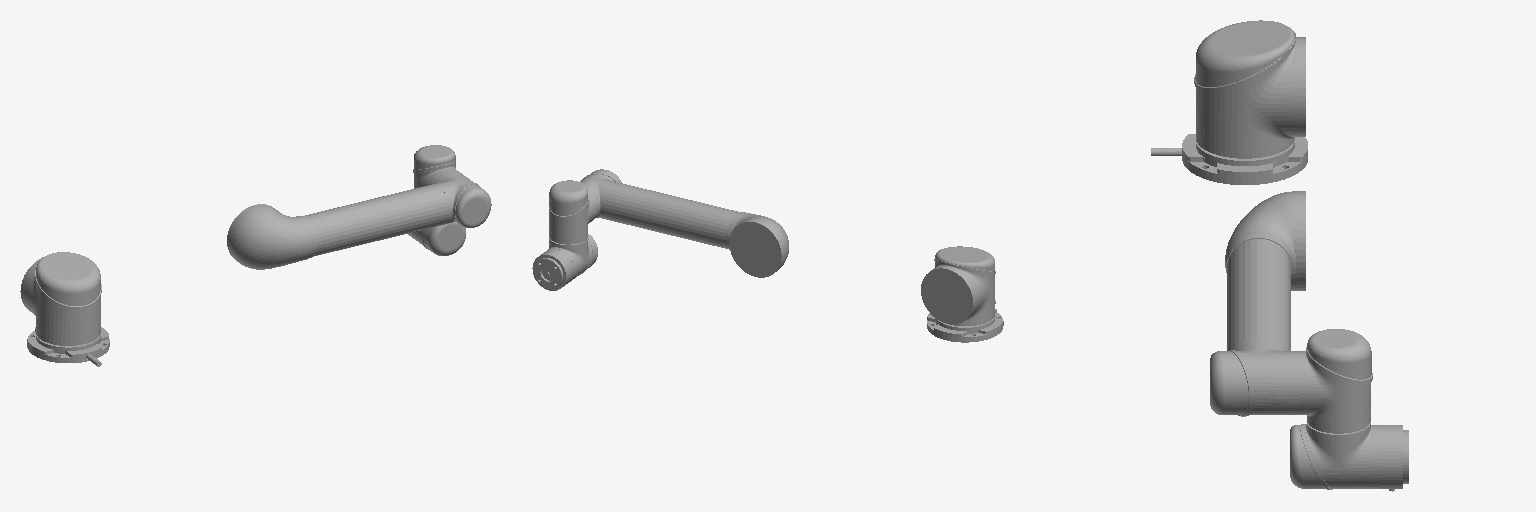
robot.urdf — ur5:
<?xml version="1.0" encoding="utf-8"?>
<!-- =================================================================================== -->
<!-- |    This document was autogenerated by xacro from ur5_joint_limited_robot.urdf.xacro | -->
<!-- |    EDITING THIS FILE BY HAND IS NOT RECOMMENDED                                 | -->
<!-- =================================================================================== -->
<robot name="ur5" xmlns:xacro="http://wiki.ros.org/xacro">
  <gazebo>
    <plugin filename="libgazebo_ros_control.so" name="ros_control">
      <!--robotNamespace>/</robotNamespace-->
      <!--robotSimType>gazebo_ros_control/DefaultRobotHWSim</robotSimType-->
    </plugin>
    <!--
    <plugin name="gazebo_ros_power_monitor_controller" filename="libgazebo_ros_power_monitor.so">
      <alwaysOn>true</alwaysOn>
      <updateRate>1.0</updateRate>
      <timeout>5</timeout>
      <powerStateTopic>power_state</powerStateTopic>
      <powerStateRate>10.0</powerStateRate>
      <fullChargeCapacity>87.78</fullChargeCapacity>
      <dischargeRate>-474</dischargeRate>
      <chargeRate>525</chargeRate>
      <dischargeVoltage>15.52</dischargeVoltage>
      <chargeVoltage>16.41</chargeVoltage>
    </plugin>
-->
  </gazebo>
  <!-- measured from model -->
  <!--property name="shoulder_height" value="0.089159" /-->
  <!--property name="shoulder_offset" value="0.13585" /-->
  <!-- shoulder_offset - elbow_offset + wrist_1_length = 0.10915 -->
  <!--property name="upper_arm_length" value="0.42500" /-->
  <!--property name="elbow_offset" value="0.1197" /-->
  <!-- CAD measured -->
  <!--property name="forearm_length" value="0.39225" /-->
  <!--property name="wrist_1_length" value="0.093" /-->
  <!-- CAD measured -->
  <!--property name="wrist_2_length" value="0.09465" /-->
  <!-- In CAD this distance is 0.930, but in the spec it is 0.09465 -->
  <!--property name="wrist_3_length" value="0.0823" /-->
  <!-- manually measured -->
  <link name="base_link">
    <visual>
      <geometry>
        <mesh filename="package://ur_description/meshes/ur5/visual/base.dae"/>
      </geometry>
      <material name="LightGrey">
        <color rgba="0.7 0.7 0.7 1.0"/>
      </material>
    </visual>
    <collision>
      <geometry>
        <mesh filename="package://ur_description/meshes/ur5/collision/base.stl"/>
      </geometry>
    </collision>
    <inertial>
      <mass value="4.0"/>
      <origin rpy="0 0 0" xyz="0.0 0.0 0.0"/>
      <inertia ixx="0.00443333156" ixy="0.0" ixz="0.0" iyy="0.00443333156" iyz="0.0" izz="0.0072"/>
    </inertial>
  </link>
  <joint name="shoulder_pan_joint" type="revolute">
    <parent link="base_link"/>
    <child link="shoulder_link"/>
    <origin rpy="0.0 0.0 0.0" xyz="0.0 0.0 0.089159"/>
    <axis xyz="0 0 1"/>
    <limit effort="150.0" lower="-3.14159265359" upper="3.14159265359" velocity="3.15"/>
    <dynamics damping="0.0" friction="0.0"/>
  </joint>
  <link name="shoulder_link">
    <visual>
      <geometry>
        <mesh filename="package://ur_description/meshes/ur5/visual/shoulder.dae"/>
      </geometry>
      <material name="LightGrey">
        <color rgba="0.7 0.7 0.7 1.0"/>
      </material>
    </visual>
    <collision>
      <geometry>
        <mesh filename="package://ur_description/meshes/ur5/collision/shoulder.stl"/>
      </geometry>
    </collision>
    <inertial>
      <mass value="3.7"/>
      <origin rpy="0 0 0" xyz="0.0 0.0 0.0"/>
      <inertia ixx="0.010267495893" ixy="0.0" ixz="0.0" iyy="0.010267495893" iyz="0.0" izz="0.00666"/>
    </inertial>
  </link>
  <joint name="shoulder_lift_joint" type="revolute">
    <parent link="shoulder_link"/>
    <child link="upper_arm_link"/>
    <origin rpy="0.0 1.57079632679 0.0" xyz="0.0 0.13585 0.0"/>
    <axis xyz="0 1 0"/>
    <limit effort="150.0" lower="-1.5707" upper="1.5707" velocity="3.15"/>
    <dynamics damping="0.0" friction="0.0"/>
  </joint>
  <link name="upper_arm_link">
    <visual>
      <geometry>
        <mesh filename="package://ur_description/meshes/ur5/visual/upperarm.dae"/>
      </geometry>
      <material name="LightGrey">
        <color rgba="0.7 0.7 0.7 1.0"/>
      </material>
    </visual>
    <collision>
      <geometry>
        <mesh filename="package://ur_description/meshes/ur5/collision/upperarm.stl"/>
      </geometry>
    </collision>
    <inertial>
      <mass value="8.393"/>
      <origin rpy="0 0 0" xyz="0.0 0.0 0.28"/>
      <inertia ixx="0.22689067591" ixy="0.0" ixz="0.0" iyy="0.22689067591" iyz="0.0" izz="0.0151074"/>
    </inertial>
  </link>
  <joint name="elbow_joint" type="revolute">
    <parent link="upper_arm_link"/>
    <child link="forearm_link"/>
    <origin rpy="0.0 0.0 0.0" xyz="0.0 -0.1197 0.425"/>
    <axis xyz="0 1 0"/>
    <limit effort="150.0" lower="-1.5707" upper="1.5707" velocity="3.15"/>
    <dynamics damping="0.0" friction="0.0"/>
  </joint>
  <link name="forearm_link">
    <visual>
      <geometry>
        <mesh filename="package://ur_description/meshes/ur5/visual/forearm.dae"/>
      </geometry>
      <material name="LightGrey">
        <color rgba="0.7 0.7 0.7 1.0"/>
      </material>
    </visual>
    <collision>
      <geometry>
        <mesh filename="package://ur_description/meshes/ur5/collision/forearm.stl"/>
      </geometry>
    </collision>
    <inertial>
      <mass value="2.275"/>
      <origin rpy="0 0 0" xyz="0.0 0.0 0.25"/>
      <inertia ixx="0.049443313556" ixy="0.0" ixz="0.0" iyy="0.049443313556" iyz="0.0" izz="0.004095"/>
    </inertial>
  </link>
  <joint name="wrist_1_joint" type="revolute">
    <parent link="forearm_link"/>
    <child link="wrist_1_link"/>
    <origin rpy="0.0 1.57079632679 0.0" xyz="0.0 0.0 0.39225"/>
    <axis xyz="0 1 0"/>
    <limit effort="28.0" lower="-1.5707" upper="1.5707" velocity="3.2"/>
    <dynamics damping="0.0" friction="0.0"/>
  </joint>
  <link name="wrist_1_link">
    <visual>
      <geometry>
        <mesh filename="package://ur_description/meshes/ur5/visual/wrist1.dae"/>
      </geometry>
      <material name="LightGrey">
        <color rgba="0.7 0.7 0.7 1.0"/>
      </material>
    </visual>
    <collision>
      <geometry>
        <mesh filename="package://ur_description/meshes/ur5/collision/wrist1.stl"/>
      </geometry>
    </collision>
    <inertial>
      <mass value="1.219"/>
      <origin rpy="0 0 0" xyz="0.0 0.0 0.0"/>
      <inertia ixx="0.111172755531" ixy="0.0" ixz="0.0" iyy="0.111172755531" iyz="0.0" izz="0.21942"/>
    </inertial>
  </link>
  <joint name="wrist_2_joint" type="revolute">
    <parent link="wrist_1_link"/>
    <child link="wrist_2_link"/>
    <origin rpy="0.0 0.0 0.0" xyz="0.0 0.093 0.0"/>
    <axis xyz="0 0 1"/>
    <limit effort="28.0" lower="-1.5707" upper="1.5707" velocity="3.2"/>
    <dynamics damping="0.0" friction="0.0"/>
  </joint>
  <link name="wrist_2_link">
    <visual>
      <geometry>
        <mesh filename="package://ur_description/meshes/ur5/visual/wrist2.dae"/>
      </geometry>
      <material name="LightGrey">
        <color rgba="0.7 0.7 0.7 1.0"/>
      </material>
    </visual>
    <collision>
      <geometry>
        <mesh filename="package://ur_description/meshes/ur5/collision/wrist2.stl"/>
      </geometry>
    </collision>
    <inertial>
      <mass value="1.219"/>
      <origin rpy="0 0 0" xyz="0.0 0.0 0.0"/>
      <inertia ixx="0.111172755531" ixy="0.0" ixz="0.0" iyy="0.111172755531" iyz="0.0" izz="0.21942"/>
    </inertial>
  </link>
  <joint name="wrist_3_joint" type="revolute">
    <parent link="wrist_2_link"/>
    <child link="wrist_3_link"/>
    <origin rpy="0.0 0.0 0.0" xyz="0.0 0.0 0.09465"/>
    <axis xyz="0 1 0"/>
    <limit effort="28.0" lower="-3.14159265359" upper="3.14159265359" velocity="3.2"/>
    <dynamics damping="0.0" friction="0.0"/>
  </joint>
  <link name="wrist_3_link">
    <visual>
      <geometry>
        <mesh filename="package://ur_description/meshes/ur5/visual/wrist3.dae"/>
      </geometry>
      <material name="LightGrey">
        <color rgba="0.7 0.7 0.7 1.0"/>
      </material>
    </visual>
    <collision>
      <geometry>
        <mesh filename="package://ur_description/meshes/ur5/collision/wrist3.stl"/>
      </geometry>
    </collision>
    <inertial>
      <mass value="0.1879"/>
      <origin rpy="0 0 0" xyz="0.0 0.0 0.0"/>
      <inertia ixx="0.0171364731454" ixy="0.0" ixz="0.0" iyy="0.0171364731454" iyz="0.0" izz="0.033822"/>
    </inertial>
  </link>
  <joint name="ee_fixed_joint" type="fixed">
    <parent link="wrist_3_link"/>
    <child link="ee_link"/>
    <origin rpy="0.0 0.0 1.57079632679" xyz="0.0 0.0823 0.0"/>
  </joint>
  <link name="ee_link">
    <collision>
      <geometry>
        <box size="0.01 0.01 0.01"/>
      </geometry>
      <origin rpy="0 0 0" xyz="-0.01 0 0"/>
    </collision>
    <inertial>
      <mass value="0.0"/>
      <origin rpy="0 0 0" xyz="0 0 0"/>
      <inertia ixx="0.0" ixy="0.0" ixz="0.0" iyy="0.0" iyz="0.0" izz="0.0"/>
    </inertial>
  </link>
  <transmission name="shoulder_pan_trans">
    <type>transmission_interface/SimpleTransmission</type>
    <joint name="shoulder_pan_joint">
      <hardwareInterface>hardware_interface/PositionJointInterface</hardwareInterface>
    </joint>
    <actuator name="shoulder_pan_motor">
      <mechanicalReduction>1</mechanicalReduction>
    </actuator>
  </transmission>
  <transmission name="shoulder_lift_trans">
    <type>transmission_interface/SimpleTransmission</type>
    <joint name="shoulder_lift_joint">
      <hardwareInterface>hardware_interface/PositionJointInterface</hardwareInterface>
    </joint>
    <actuator name="shoulder_lift_motor">
      <mechanicalReduction>1</mechanicalReduction>
    </actuator>
  </transmission>
  <transmission name="elbow_trans">
    <type>transmission_interface/SimpleTransmission</type>
    <joint name="elbow_joint">
      <hardwareInterface>hardware_interface/PositionJointInterface</hardwareInterface>
    </joint>
    <actuator name="elbow_motor">
      <mechanicalReduction>1</mechanicalReduction>
    </actuator>
  </transmission>
  <transmission name="wrist_1_trans">
    <type>transmission_interface/SimpleTransmission</type>
    <joint name="wrist_1_joint">
      <hardwareInterface>hardware_interface/PositionJointInterface</hardwareInterface>
    </joint>
    <actuator name="wrist_1_motor">
      <mechanicalReduction>1</mechanicalReduction>
    </actuator>
  </transmission>
  <transmission name="wrist_2_trans">
    <type>transmission_interface/SimpleTransmission</type>
    <joint name="wrist_2_joint">
      <hardwareInterface>hardware_interface/PositionJointInterface</hardwareInterface>
    </joint>
    <actuator name="wrist_2_motor">
      <mechanicalReduction>1</mechanicalReduction>
    </actuator>
  </transmission>
  <transmission name="wrist_3_trans">
    <type>transmission_interface/SimpleTransmission</type>
    <joint name="wrist_3_joint">
      <hardwareInterface>hardware_interface/PositionJointInterface</hardwareInterface>
    </joint>
    <actuator name="wrist_3_motor">
      <mechanicalReduction>1</mechanicalReduction>
    </actuator>
  </transmission>
  <gazebo reference="shoulder_link">
    <selfCollide>true</selfCollide>
  </gazebo>
  <gazebo reference="upper_arm_link">
    <selfCollide>true</selfCollide>
  </gazebo>
  <gazebo reference="forearm_link">
    <selfCollide>true</selfCollide>
  </gazebo>
  <gazebo reference="wrist_1_link">
    <selfCollide>true</selfCollide>
  </gazebo>
  <gazebo reference="wrist_3_link">
    <selfCollide>true</selfCollide>
  </gazebo>
  <gazebo reference="wrist_2_link">
    <selfCollide>true</selfCollide>
  </gazebo>
  <gazebo reference="ee_link">
    <selfCollide>true</selfCollide>
  </gazebo>
  <!-- ROS base_link to UR 'Base' Coordinates transform -->
  <link name="base">
    <inertial>
      <mass value="0.0"/>
      <origin rpy="0 0 0" xyz="0 0 0"/>
      <inertia ixx="0.0" ixy="0.0" ixz="0.0" iyy="0.0" iyz="0.0" izz="0.0"/>
    </inertial>
  </link>
  <joint name="base_link-base_fixed_joint" type="fixed">
    <!-- NOTE: this rotation is only needed as long as base_link itself is
                 not corrected wrt the real robot (ie: rotated over 180
                 degrees)
      -->
    <origin rpy="0 0 -3.14159265359" xyz="0 0 0"/>
    <parent link="base_link"/>
    <child link="base"/>
  </joint>
  <!-- Frame coincident with all-zeros TCP on UR controller -->
  <link name="tool0">
    <inertial>
      <mass value="0.0"/>
      <origin rpy="0 0 0" xyz="0 0 0"/>
      <inertia ixx="0.0" ixy="0.0" ixz="0.0" iyy="0.0" iyz="0.0" izz="0.0"/>
    </inertial>
  </link>
  <joint name="wrist_3_link-tool0_fixed_joint" type="fixed">
    <origin rpy="-1.57079632679 0 0" xyz="0 0.0823 0"/>
    <parent link="wrist_3_link"/>
    <child link="tool0"/>
  </joint>
  <link name="world"/>
  <joint name="world_joint" type="fixed">
    <parent link="world"/>
    <child link="base_link"/>
    <origin rpy="0.0 0.0 0.0" xyz="0.0 0.0 0.0"/>
  </joint>
</robot>

--- What the picture shows (computed from the rendered views, not written in the file) ---
The picture shows the robot from 3 angles, left to right: view 1: azimuth 30°, elevation 25°; view 2: azimuth 150°, elevation 25°; view 3: azimuth 270°, elevation 25°; orthographic projection.
Robot: ur5 — 11 links, 10 joints (6 revolute, 4 fixed); root link world; default pose: every joint at zero.
Visible links, largest first — view 1: forearm_link, shoulder_link, base_link, wrist_1_link, wrist_2_link; view 2: forearm_link, shoulder_link, wrist_1_link, base_link, wrist_3_link, wrist_2_link; view 3: forearm_link, shoulder_link, wrist_1_link, wrist_2_link, base_link, wrist_3_link.
Link boxes in pixels (x1=…): forearm_link: x1=227, y1=170, x2=491, y2=269; shoulder_link: x1=20, y1=252, x2=101, y2=345; base_link: x1=27, y1=327, x2=109, y2=366; wrist_1_link: x1=413, y1=145, x2=456, y2=188; wrist_2_link: x1=408, y1=222, x2=465, y2=255; forearm_link: x1=580, y1=169, x2=788, y2=277; shoulder_link: x1=921, y1=246, x2=995, y2=325; wrist_1_link: x1=549, y1=180, x2=597, y2=244; base_link: x1=927, y1=300, x2=1003, y2=342; wrist_3_link: x1=532, y1=249, x2=572, y2=290; wrist_2_link: x1=548, y1=234, x2=597, y2=281; forearm_link: x1=1210, y1=191, x2=1305, y2=416; shoulder_link: x1=1194, y1=20, x2=1305, y2=158; wrist_1_link: x1=1300, y1=329, x2=1372, y2=433; wrist_2_link: x1=1290, y1=422, x2=1378, y2=489; base_link: x1=1151, y1=134, x2=1307, y2=184; wrist_3_link: x1=1379, y1=425, x2=1408, y2=491.
Size in the robot's own frame: 0.9295 by 0.301 by 0.2062 metres.
6 mesh visuals loaded from 7 distinct referenced files (6 Collada DAE); not drawn: 1 (reference not matched to a file when rendering).